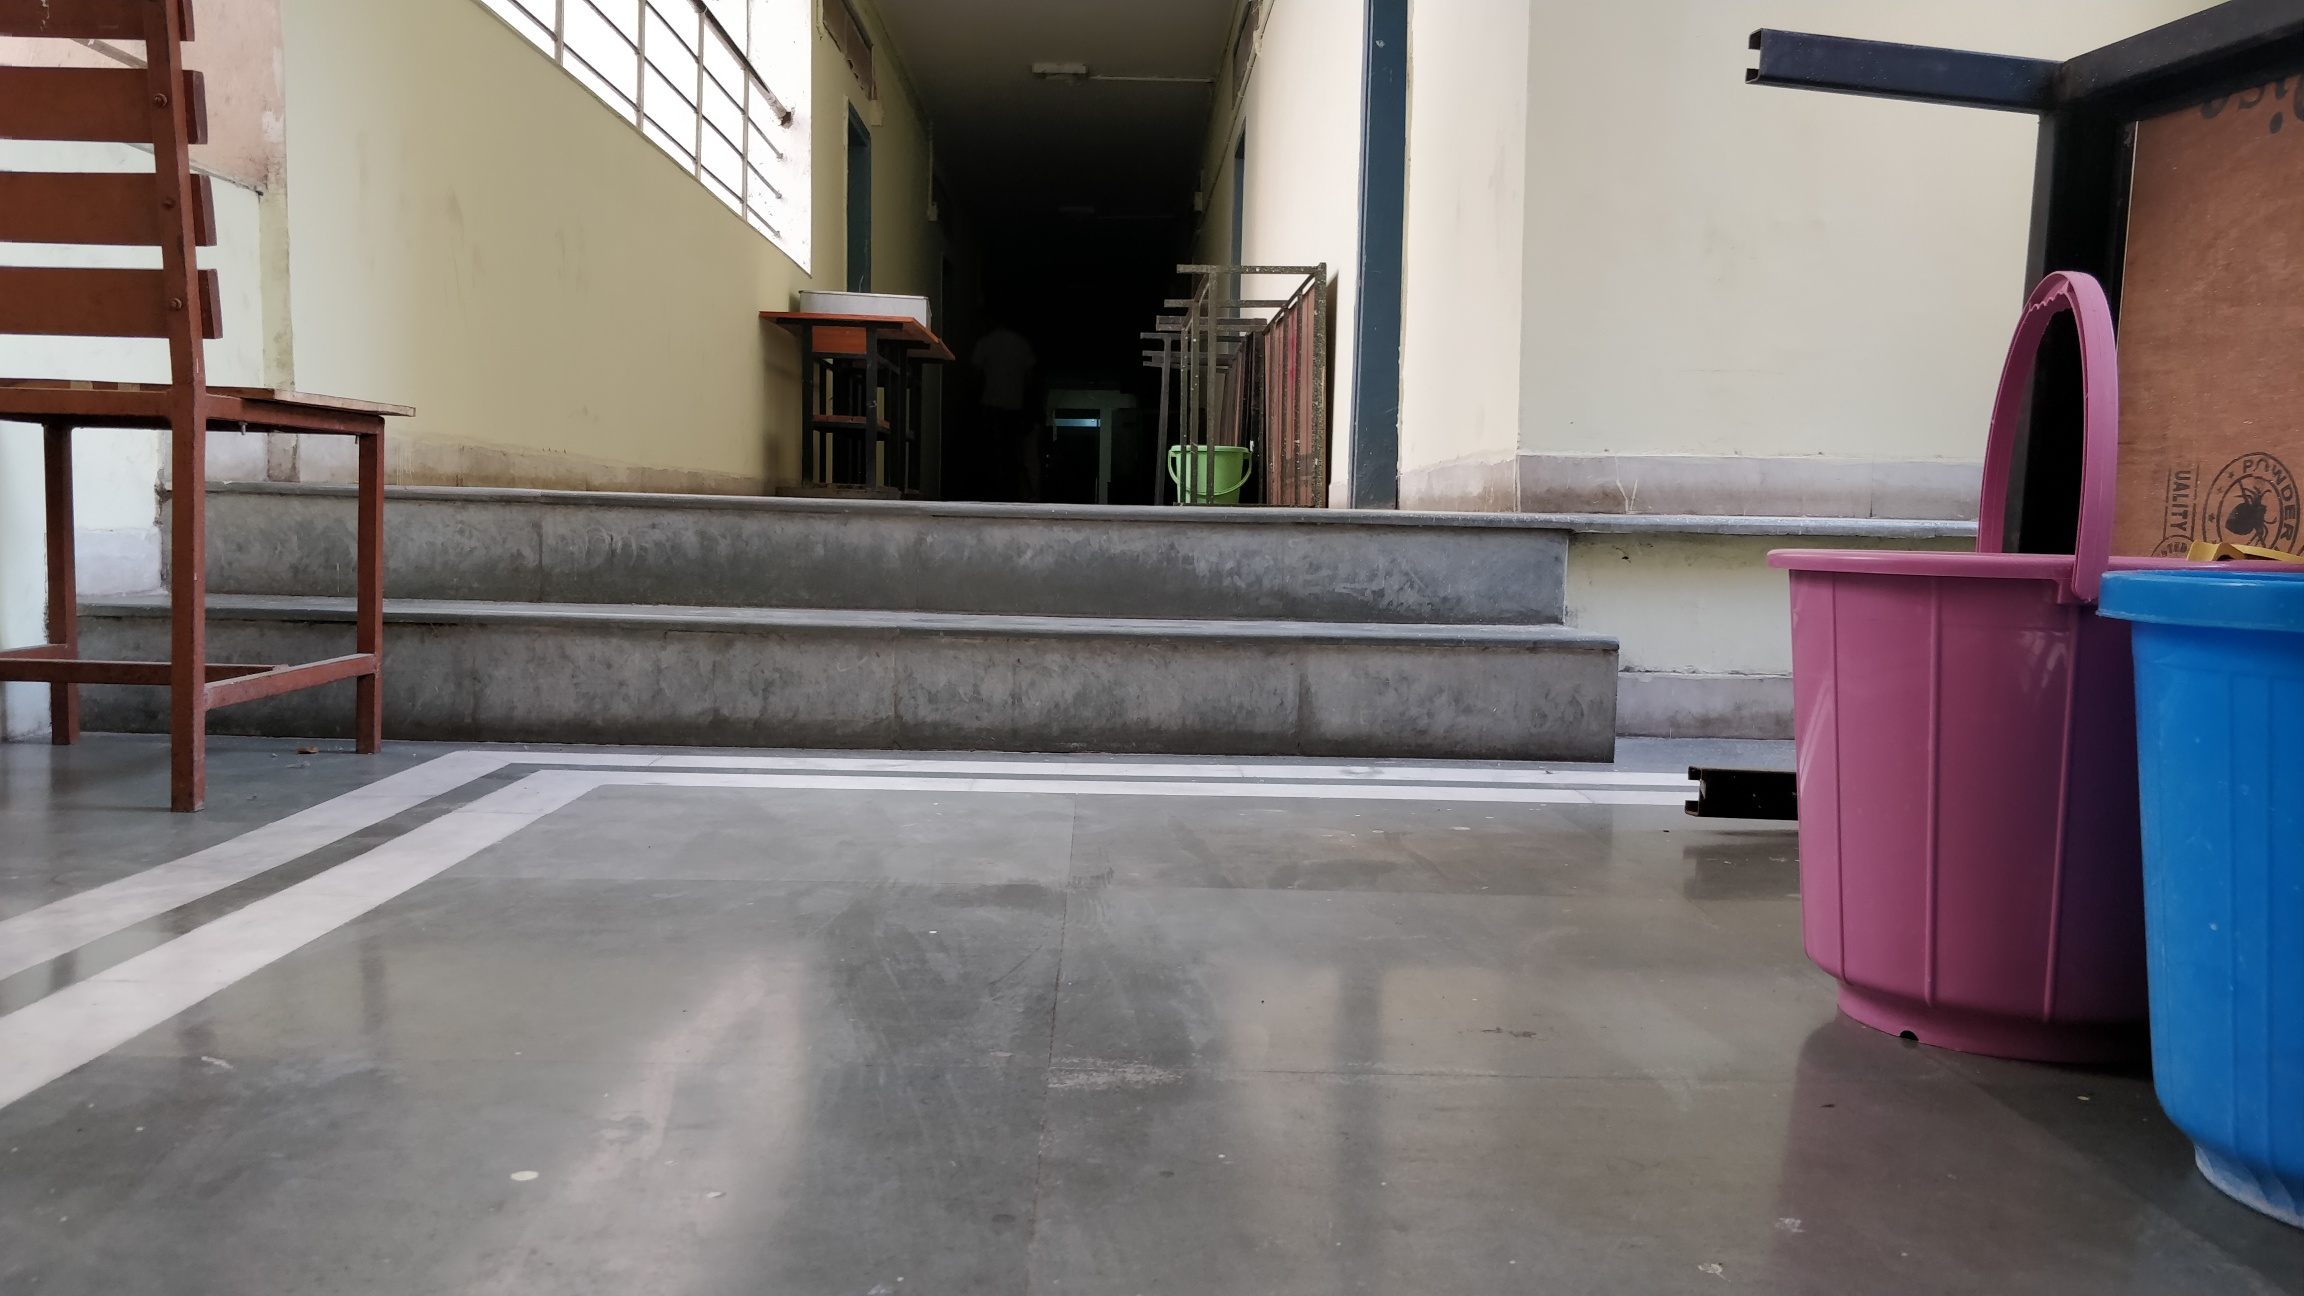stairs_up: (377, 470, 1638, 750)
